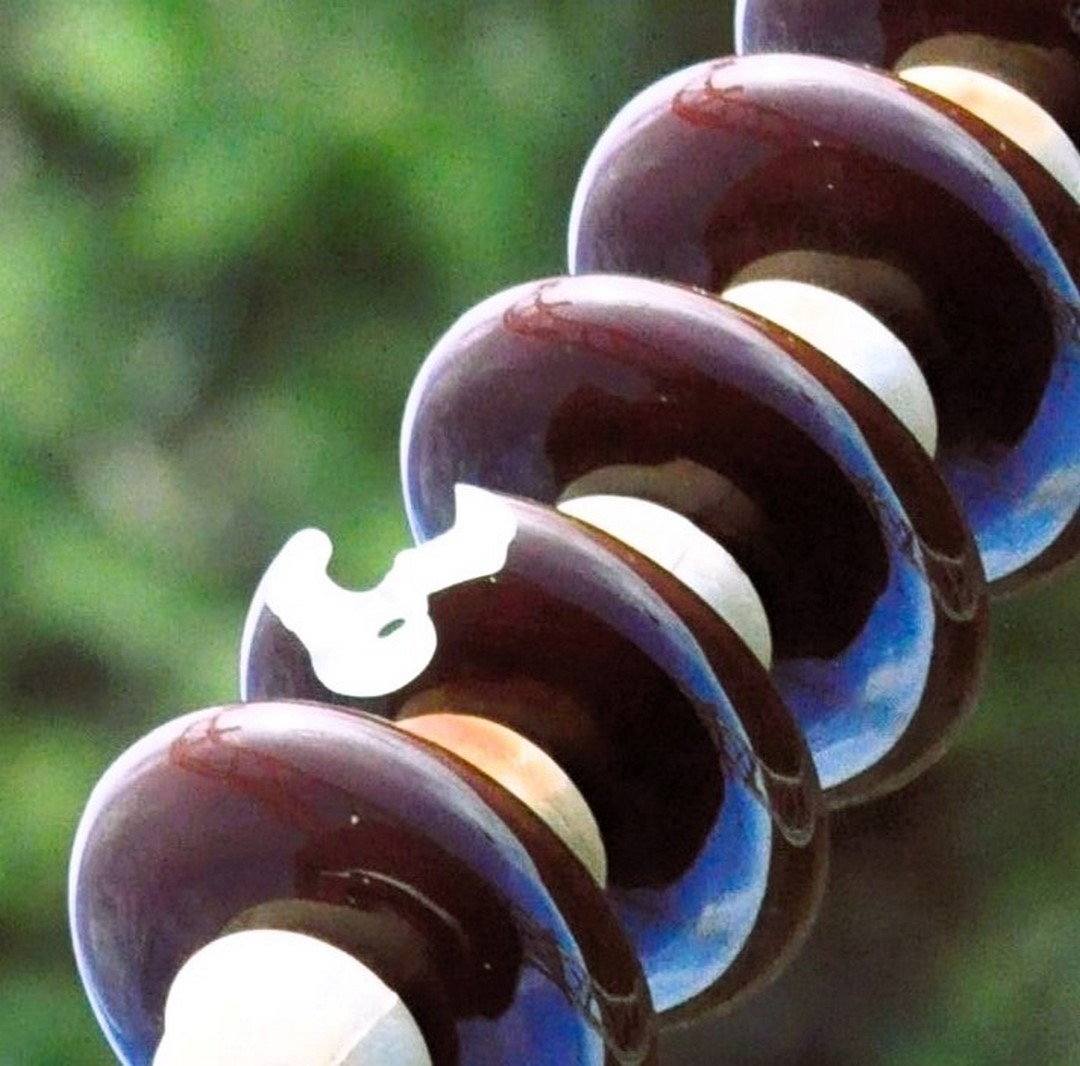insulator breakage: (223, 467, 841, 1007)
